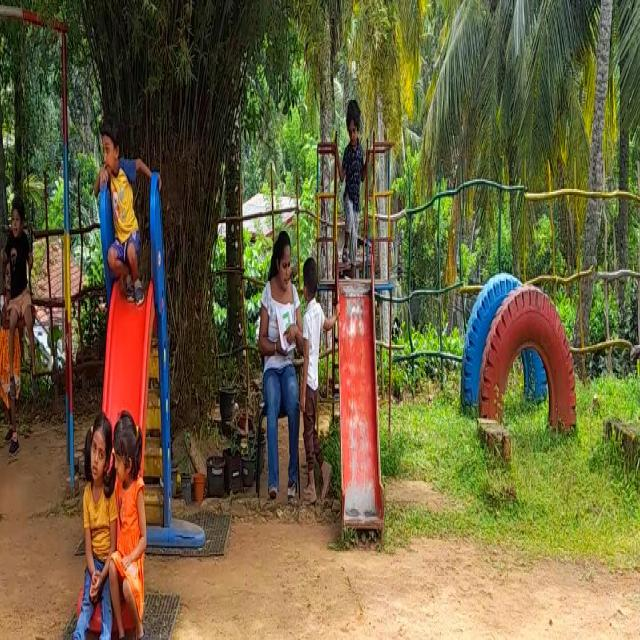adult: (245, 222, 304, 493)
child: (68, 406, 114, 640), (115, 387, 149, 640), (102, 88, 142, 301), (301, 244, 330, 500), (3, 193, 37, 386), (338, 91, 370, 259)
